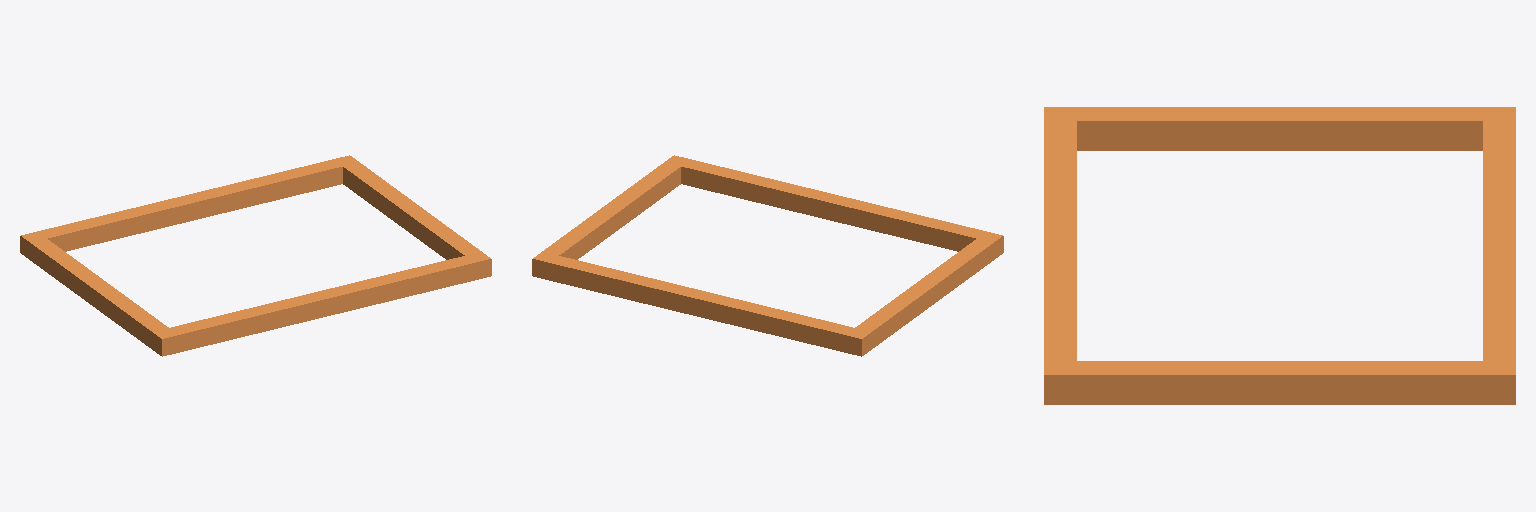
robot.urdf — wall:
<?xml version="0.0" ?>
<robot name="wall">
    <link name="base_link">
    </link>
    <joint name="left_wall_joint" type="fixed">
        <origin rpy="0 0 0" xyz="0.0 2.7 0.2"/>
        <parent link="base_link"/>
        <child link="wall_left"/>
        <axis xyz="0 0 1" />
    </joint>
    <link name="wall_left">
        <mass value="1"/>
        <inertia ixx="1" ixy="0" ixz="0" iyy="1" iyz="0" izz="1"/>
        <visual>
            <geometry>
                <box size="7 0.4 0.4"/>
            </geometry>
            <material name="yellow">
                <color rgba="0.96 0.64 0.37 1"/>
            </material>
        </visual>
        <collision>
            <geometry>
                <box size="7 0.4 0.4"/>
            </geometry>
        </collision>
    </link>

    <joint name="right_wall_joint" type="fixed">
        <origin rpy="0 0 0" xyz="0.0 -2.7 0.2"/>
        <parent link="base_link"/>
        <child link="wall_right"/>
    </joint>
    <link name="wall_right">
        <visual>
            <geometry>
                <box size="7 0.4 0.4"/>
            </geometry>
            <material name="yellow">
                <color rgba="0.96 0.64 0.37 1"/>
            </material>
        </visual>
        <collision>
            <geometry>
                <box size="7 0.4 0.4"/>
            </geometry>
        </collision>
    </link>

    <joint name="front_wall_joint" type="fixed">
        <origin rpy="0 0 0" xyz="3.7 0.0 0.2"/>
        <parent link="base_link"/>
        <child link="wall_front"/>
    </joint>
    <link name="wall_front">
        <visual>
            <geometry>
                <box size="0.4 5.8 0.4"/>
            </geometry>
            <material name="yellow">
                <color rgba="0.96 0.64 0.37 1"/>
            </material>
        </visual>
        <collision>
            <geometry>
                <box size="0.4 5.4 0.4"/>
            </geometry>
        </collision>
    </link>

    <joint name="back_wall_joint" type="fixed">
        <origin rpy="0 0 0" xyz="-3.7 0 0.2"/>
        <parent link="base_link"/>
        <child link="wall_back"/>
    </joint>
    <link name="wall_back">
        <visual>
            <geometry>
                <box size="0.4 5.8 0.4"/>
            </geometry>
            <material name="yellow">
                <color rgba="0.96 0.64 0.37 1"/>
            </material>
        </visual>
        <collision>
            <geometry>
                <box size="0.4 5.4 0.4"/>
            </geometry>
        </collision>
    </link>

</robot>

--- Render facts (derived) ---
The picture shows the robot from 3 angles, left to right: view 1: azimuth 30°, elevation 25°; view 2: azimuth 150°, elevation 25°; view 3: azimuth 270°, elevation 25°; orthographic projection.
Model wall with 5 links and 4 joints (4 fixed), rooted at base_link, posed every joint at zero.
Links seen in each view (by area): view 1: wall_right, wall_left, wall_back, wall_front; view 2: wall_left, wall_right, wall_back, wall_front; view 3: wall_front, wall_back, wall_left, wall_right.
Boxes of the visible links, box(x1,y1,x2,y2) form: wall_right: box(170, 256, 474, 352); wall_left: box(37, 159, 342, 251); wall_back: box(20, 232, 178, 356); wall_front: box(333, 155, 491, 279); wall_left: box(549, 256, 853, 352); wall_right: box(681, 159, 986, 251); wall_back: box(845, 232, 1003, 356); wall_front: box(532, 155, 690, 279); wall_front: box(1044, 361, 1515, 404); wall_back: box(1044, 107, 1515, 150); wall_left: box(1483, 121, 1515, 360); wall_right: box(1044, 121, 1076, 360).
Bounding box of the posed robot: 7.8 × 5.8 × 0.4 m (x, y, z).
Geometry: primitives only (box / cylinder / sphere), no mesh files.
